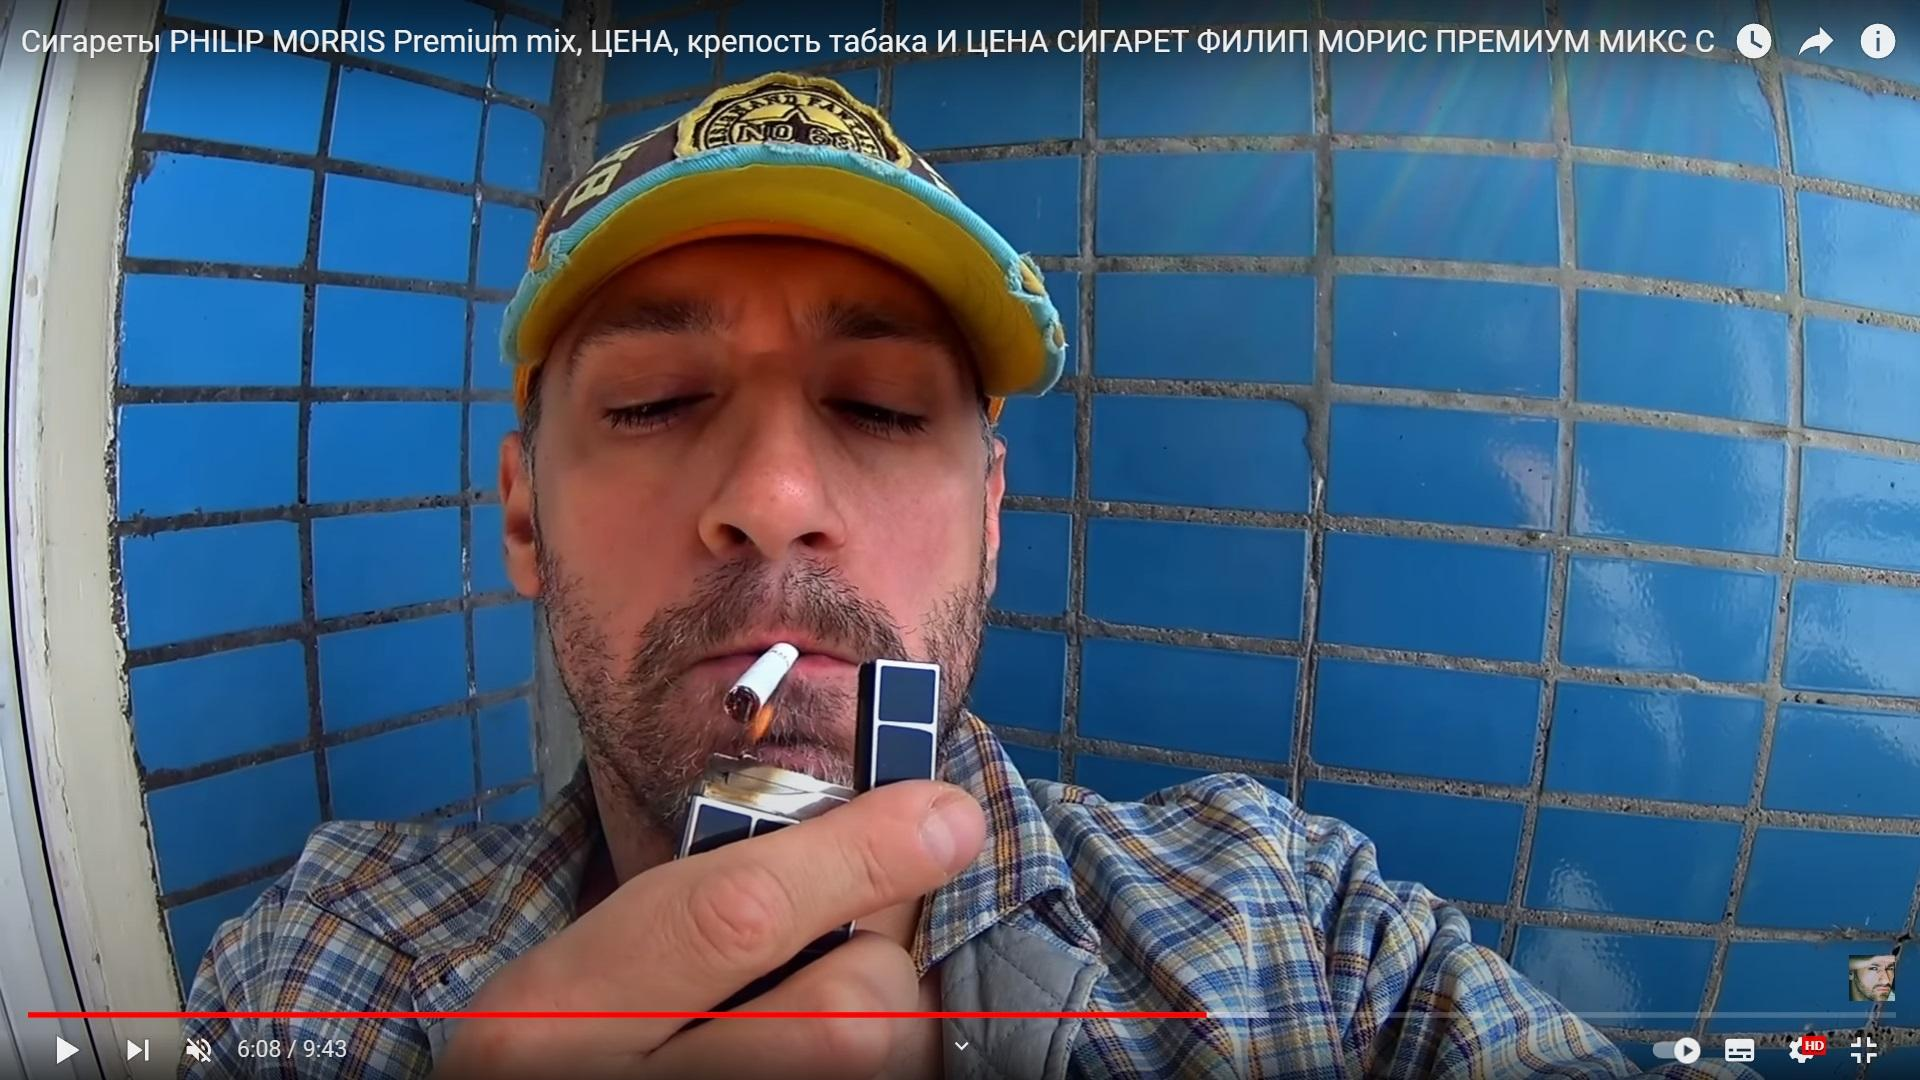cigarette: (724, 642, 802, 725)
